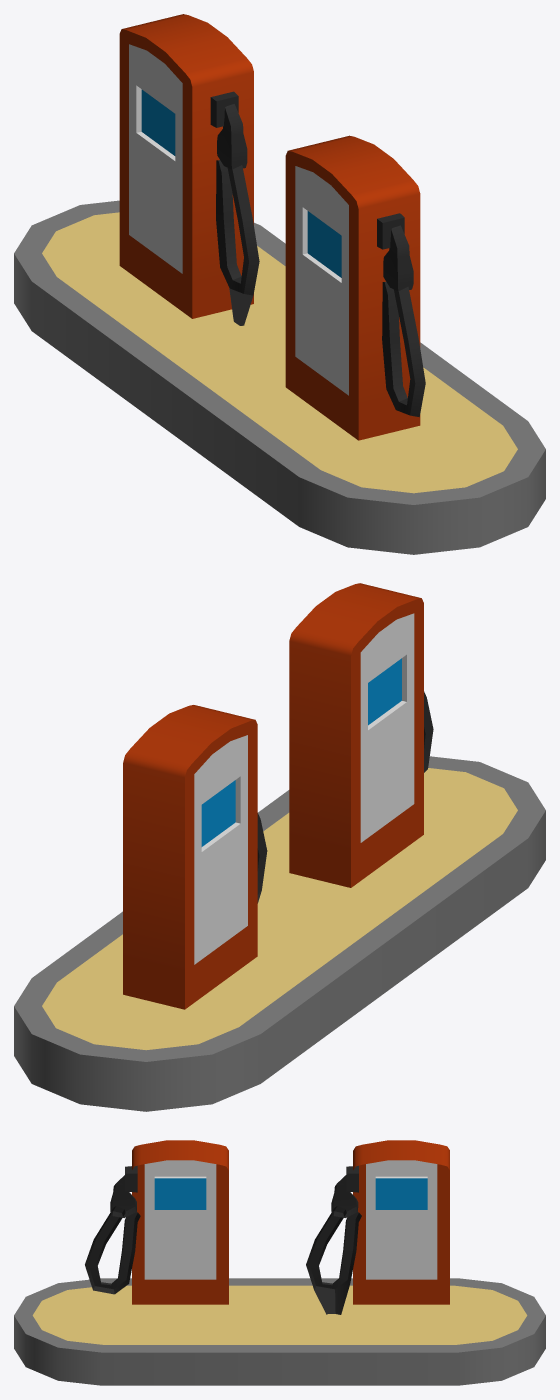
The model's file is filling_column.fbx.
3 renders of one model, top to bottom at view 1: azimuth 30°, elevation 25°; view 2: azimuth 150°, elevation 25°; view 3: azimuth 270°, elevation 25°, orthographic. The views are drawn at different scales.
Visible parts, largest first — view 1: filling_column; view 2: filling_column; view 3: filling_column.
Part boxes in pixels (x1,y1,x2,y2): filling_column: [14, 14, 545, 554]; filling_column: [14, 583, 545, 1111]; filling_column: [14, 1140, 545, 1385].
Bounding box in the file's own units: 252 × 312 × 762.
